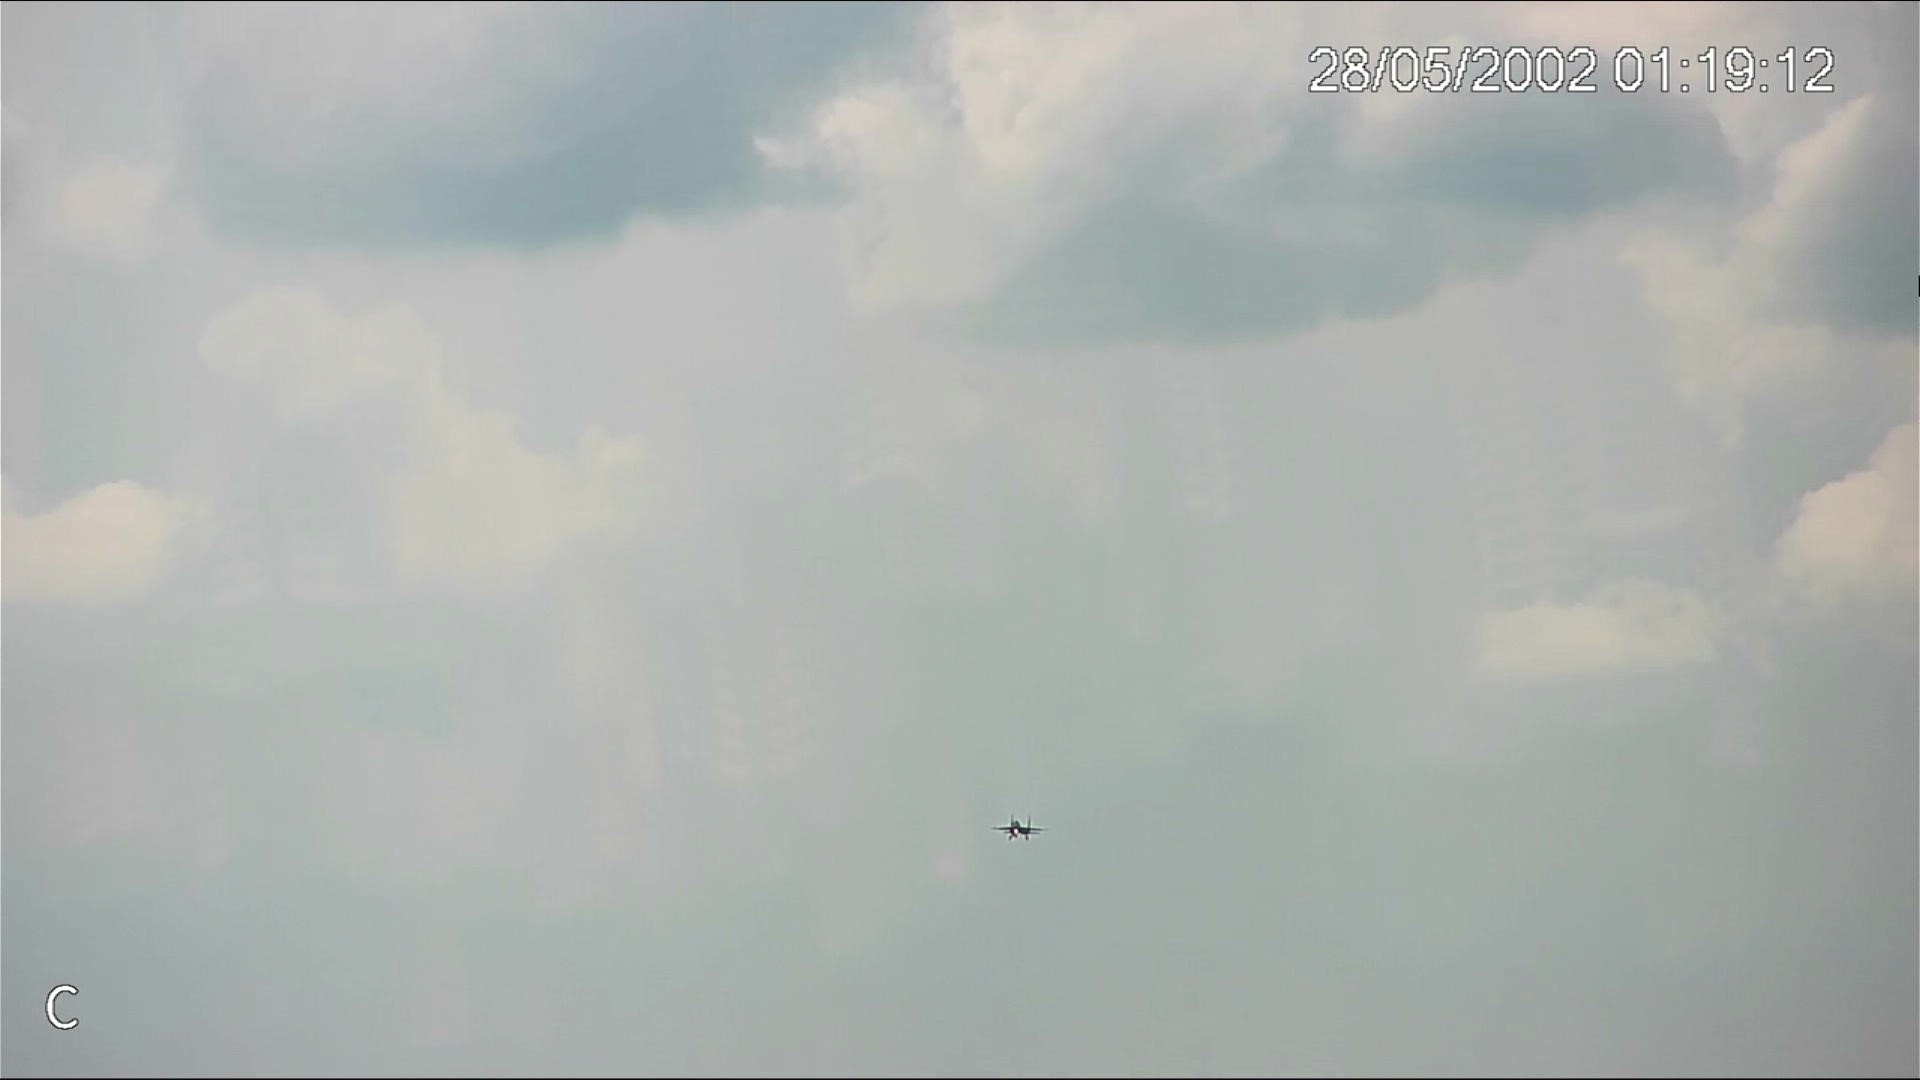SU_30: (986, 814, 1048, 843)
